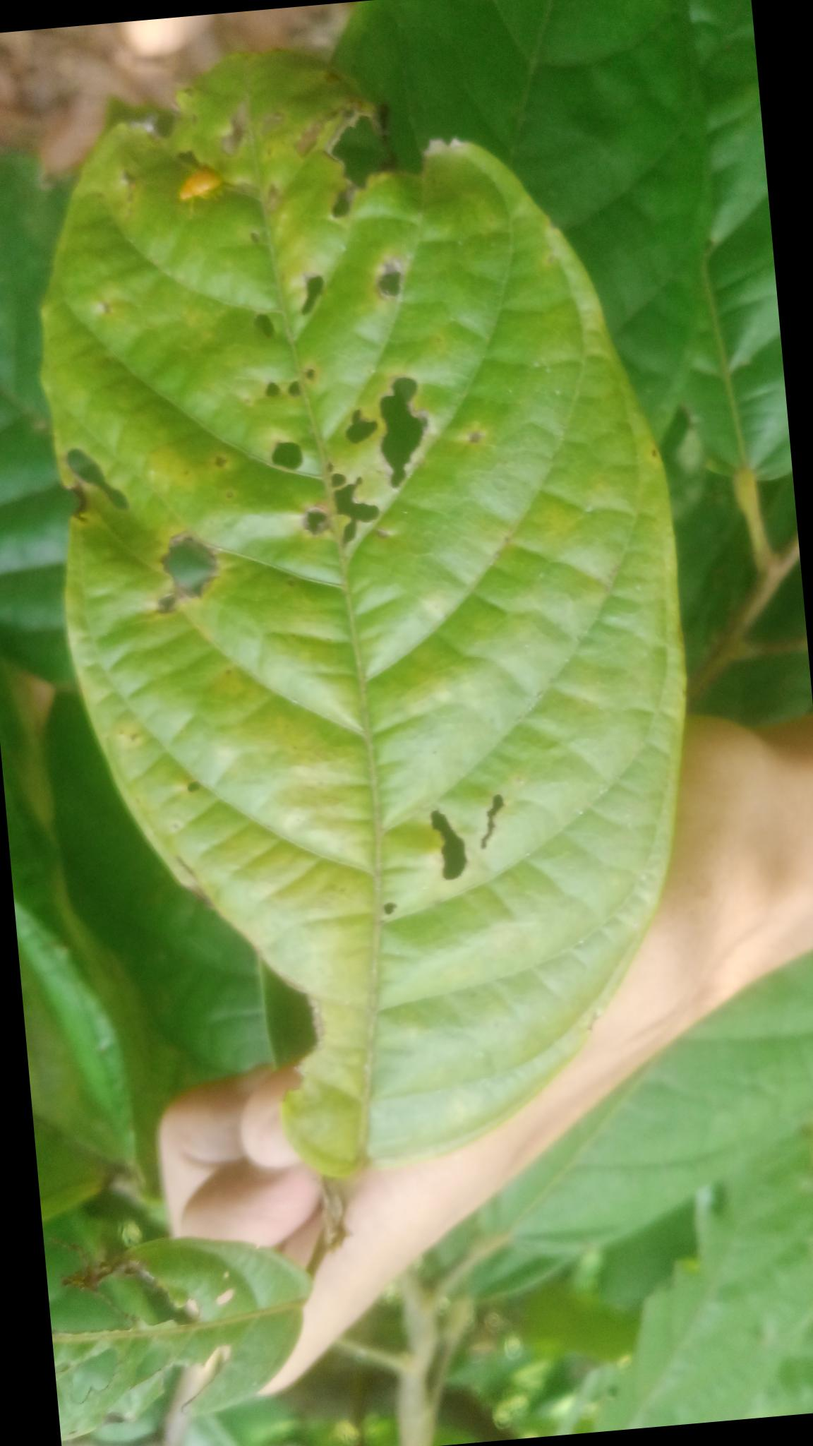Fosforo: (49, 86, 694, 1161)
